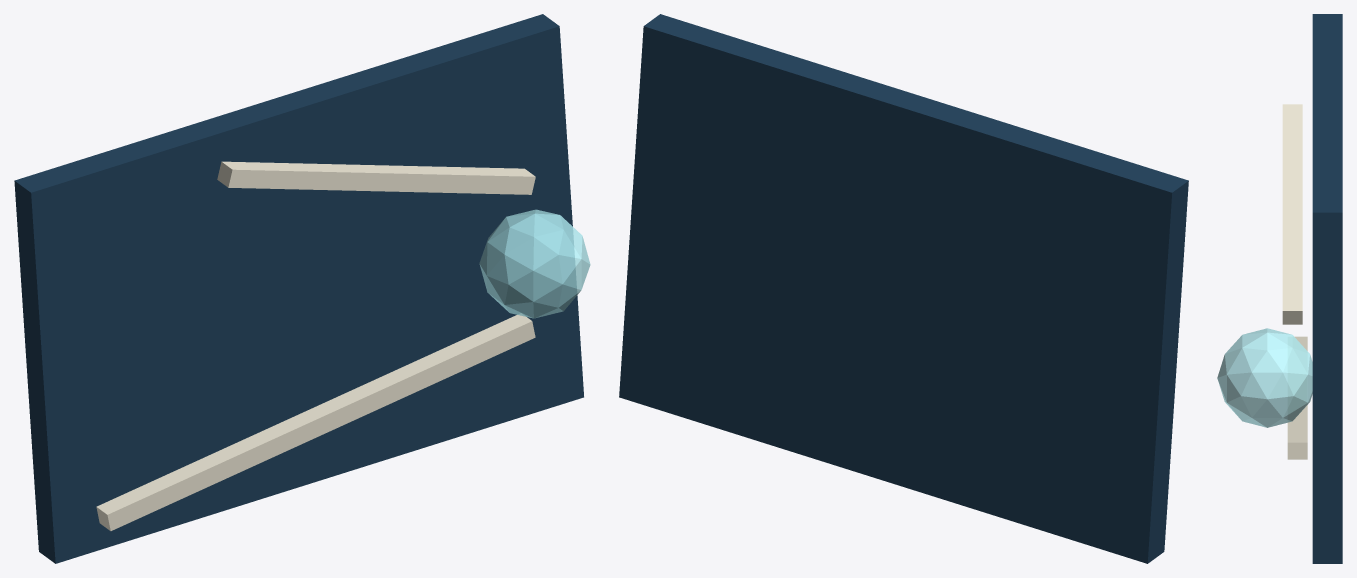
File: 02_world_prop_polish.glb
3 renders of one model, left to right at view 1: azimuth 30°, elevation 25°; view 2: azimuth 150°, elevation 25°; view 3: azimuth 270°, elevation 25°, orthographic. The views are drawn at different scales.
Parts seen in each view (by area): view 1: object_overlay_plate, edge_wear_a, glow_socket, edge_wear_b; view 2: object_overlay_plate; view 3: object_overlay_plate, glow_socket, edge_wear_b, edge_wear_a.
Boxes of the visible parts, x1,y1,x2,y2 form: object_overlay_plate: (14,14,583,563); edge_wear_a: (96,314,535,530); glow_socket: (479,209,590,318); edge_wear_b: (217,161,535,194); object_overlay_plate: (619,14,1188,563); object_overlay_plate: (1312,14,1342,563); glow_socket: (1217,328,1312,427); edge_wear_b: (1282,104,1302,324); edge_wear_a: (1287,336,1307,459).
Bounding box in the file's own units: 1.15 × 0.8229 × 0.25.
